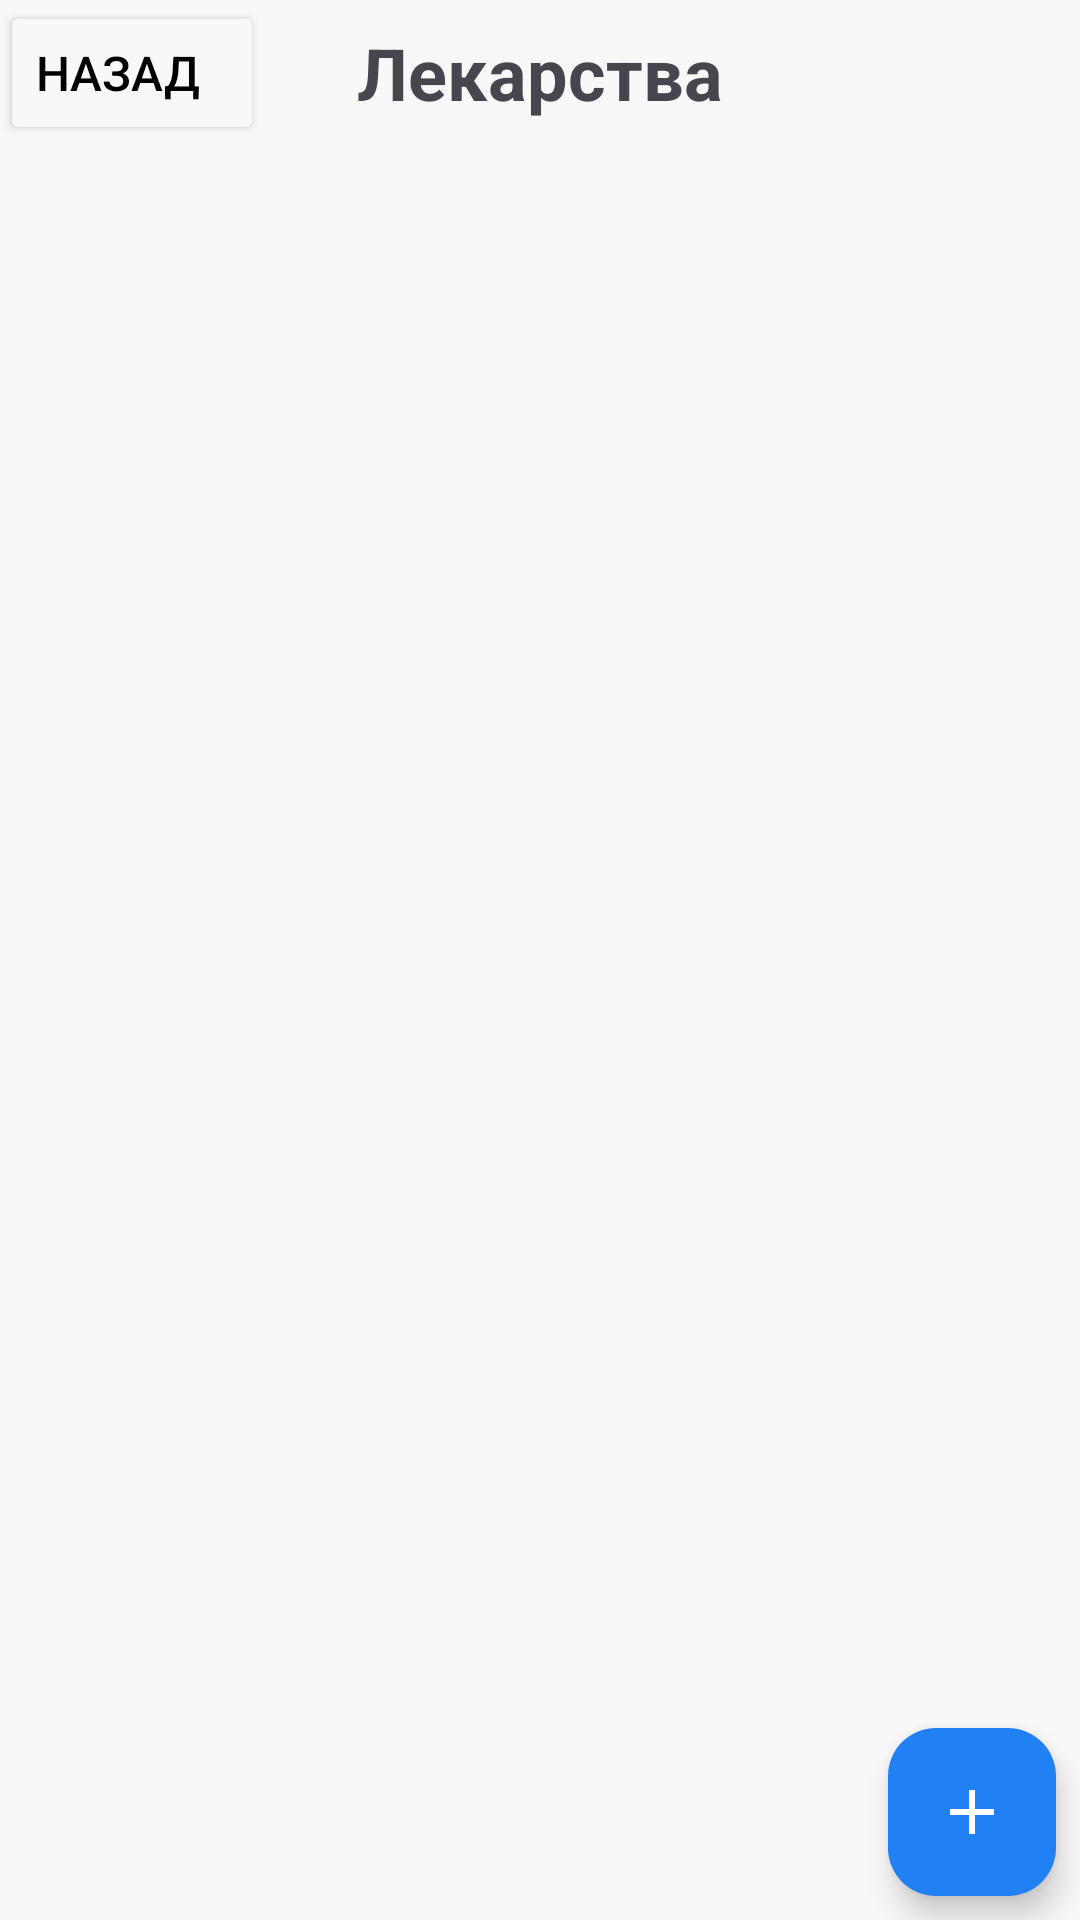

Locate icon controls on the screen. Image size 1080px x 1920px, boxes as (x1, y1, x2, y2).
add medicament: (888, 1728, 1056, 1896)
